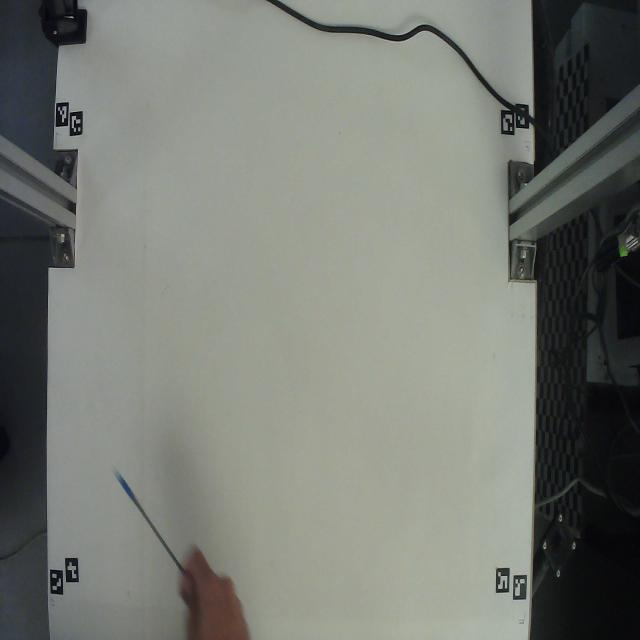NoPres: (106, 460, 205, 584)
